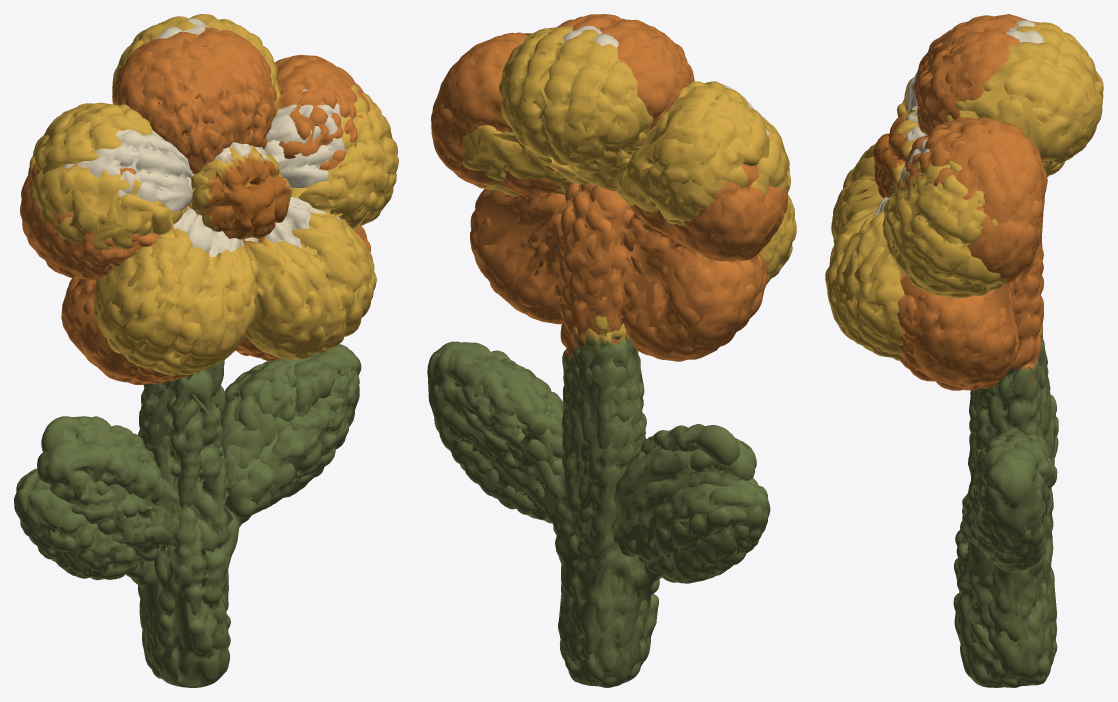
File: flowers.glb
The picture shows the model from 3 angles, left to right: view 1: azimuth 30°, elevation 25°; view 2: azimuth 150°, elevation 25°; view 3: azimuth 270°, elevation 25°; orthographic projection.
Visible parts, largest first — view 1: yellow-near, white-near, orange-near, yellow-far, orange-far, yellow-mid, white-far, orange-mid, white-mid; view 2: yellow-near, orange-near, orange-far, yellow-far, orange-mid, yellow-mid, white-near; view 3: orange-near, yellow-near, orange-far, orange-mid, white-near, yellow-far, yellow-mid, white-far, white-mid.
Boxes of the visible parts, x1,y1,x2,y2 form: yellow-near: [14, 14, 398, 681]; white-near: [41, 18, 354, 687]; orange-near: [20, 27, 370, 614]; yellow-far: [16, 15, 392, 679]; orange-far: [22, 31, 368, 554]; yellow-mid: [15, 14, 398, 674]; white-far: [45, 20, 345, 686]; orange-mid: [21, 29, 364, 555]; white-mid: [42, 18, 344, 687]; yellow-near: [457, 25, 796, 687]; orange-near: [427, 14, 787, 660]; orange-far: [427, 19, 786, 641]; yellow-far: [462, 36, 792, 685]; orange-mid: [427, 14, 787, 659]; yellow-mid: [460, 27, 794, 684]; white-near: [476, 25, 768, 661]; orange-near: [894, 14, 1047, 680]; yellow-near: [825, 21, 1103, 687]; orange-far: [897, 15, 1046, 657]; orange-mid: [897, 14, 1046, 678]; white-near: [873, 20, 1044, 687]; yellow-far: [826, 26, 1100, 668]; yellow-mid: [827, 21, 1103, 687]; white-far: [880, 22, 1035, 684]; white-mid: [879, 20, 1037, 684].
Size of the model in its own units: 0.6841 by 1.22 by 0.4708.
